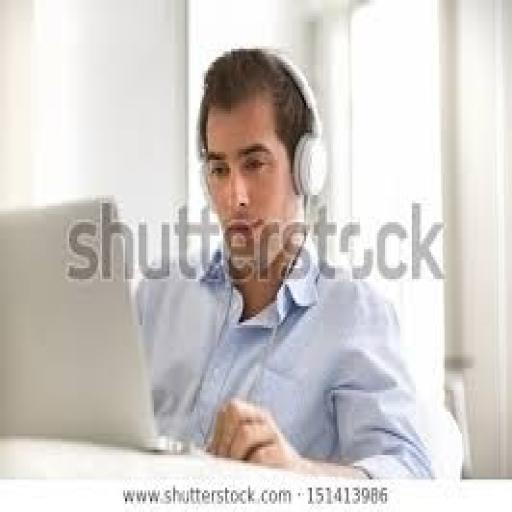listening_to_music: (131, 44, 435, 482)
